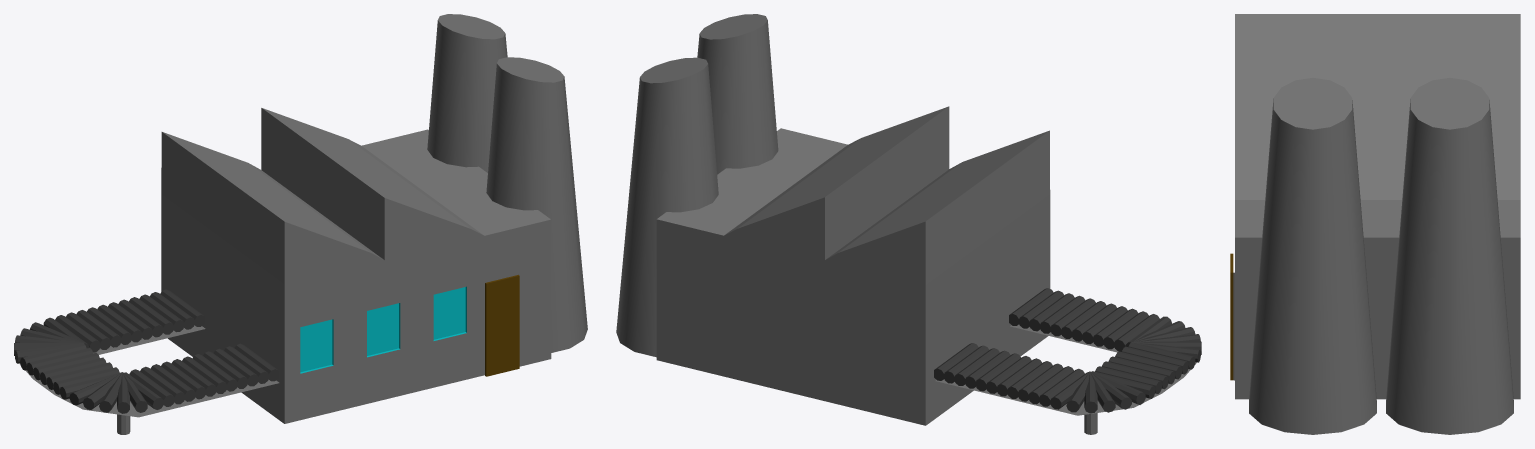
Rendered from Factory.fbx.
3 views of the same model, side by side, from view 1: azimuth 30°, elevation 25°; view 2: azimuth 150°, elevation 25°; view 3: azimuth 270°, elevation 25° (orthographic). The views are drawn at different scales.
Parts seen in each view (by area): view 1: pCube2; view 2: pCube2; view 3: pCube2.
Part boxes in pixels (left/top/right/bottom): pCube2: left=14, top=14, right=587, bottom=434; pCube2: left=616, top=14, right=1201, bottom=434; pCube2: left=1230, top=14, right=1520, bottom=434.
Size of the model in its own units: 19.16 by 9.96 by 8.13.
